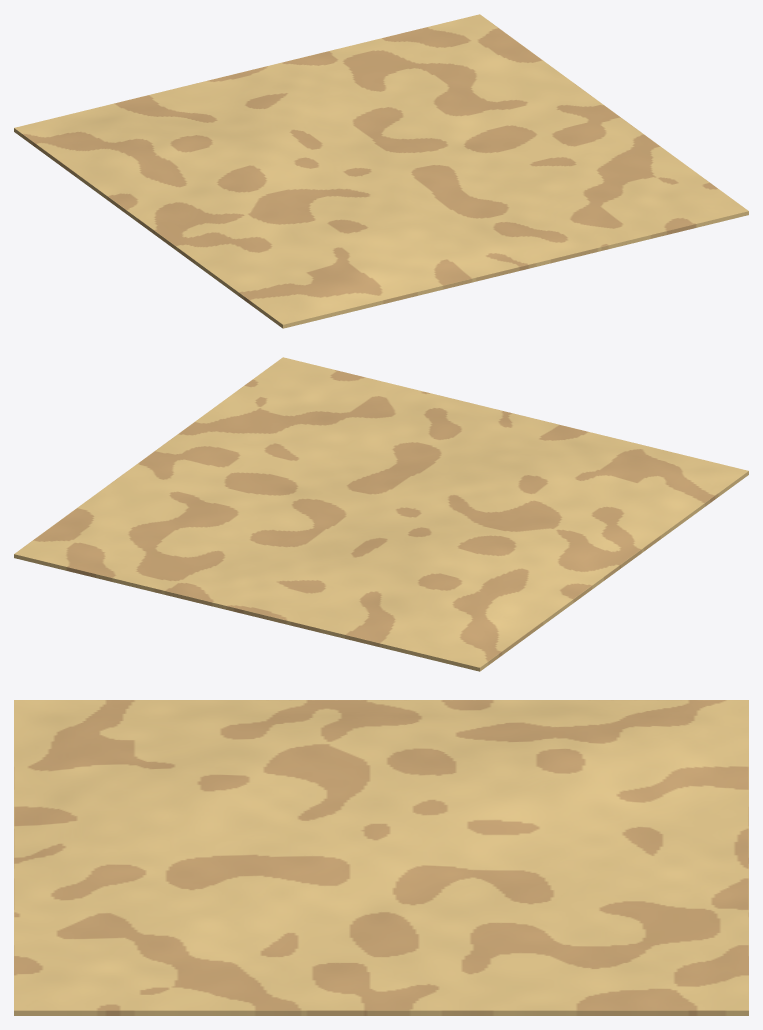
Rendered from Desert_Flat_07.obj.
3 renders of one model, top to bottom at view 1: azimuth 30°, elevation 25°; view 2: azimuth 150°, elevation 25°; view 3: azimuth 270°, elevation 25°, orthographic. The views are drawn at different scales.
Bounding box in the file's own units: 10 × 0.2801 × 10.
1 material, 1 textured.
